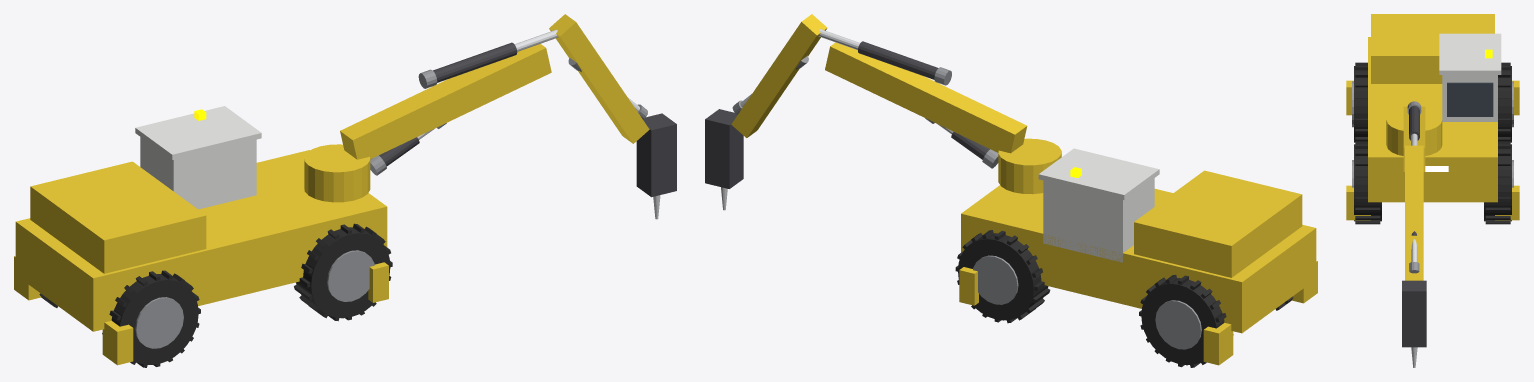
Rendered from EQ_SecondaryBreaker.glb.
3 views of the same model, side by side, from view 1: azimuth 30°, elevation 25°; view 2: azimuth 150°, elevation 25°; view 3: azimuth 270°, elevation 25° (orthographic). The views are drawn at different scales.
Visible parts, largest first — view 1: SB2_Carrier, SB2_Boom, SB2_Wheel_FR, SB2_Wheel_RR, SB2_Stick, SB2_Slew, SB2_Hammer, SB2_StickCyl, SB2_BoomCyl; view 2: SB2_Carrier, SB2_Boom, SB2_Wheel_FL, SB2_Wheel_RL, SB2_Stick, SB2_Hammer, SB2_Slew, SB2_StickCyl, SB2_BoomCyl; view 3: SB2_Carrier, SB2_Stick, SB2_Hammer, SB2_Wheel_FL, SB2_Wheel_FR, SB2_Slew, SB2_Wheel_RR, SB2_Wheel_RL, SB2_Boom, SB2_StickCyl, SB2_HammerCyl_Rod.
Boxes of the visible parts, box(x1,y1,x2,y2) form: SB2_Carrier: box(14, 106, 388, 365); SB2_Boom: box(340, 44, 551, 159); SB2_Wheel_FR: box(294, 223, 392, 321); SB2_Wheel_RR: box(102, 270, 200, 367); SB2_Stick: box(549, 14, 649, 143); SB2_Slew: box(304, 144, 370, 202); SB2_Hammer: box(636, 113, 676, 219); SB2_StickCyl: box(418, 42, 517, 88); SB2_BoomCyl: box(370, 137, 419, 175); SB2_Carrier: box(959, 148, 1317, 365); SB2_Boom: box(825, 42, 1027, 153); SB2_Wheel_FL: box(955, 230, 1050, 323); SB2_Wheel_RL: box(1139, 274, 1233, 367); SB2_Stick: box(731, 14, 827, 137); SB2_Hammer: box(705, 109, 743, 210); SB2_Slew: box(998, 138, 1061, 194); SB2_StickCyl: box(858, 41, 951, 85); SB2_BoomCyl: box(951, 132, 998, 168); SB2_Carrier: box(1346, 14, 1519, 220); SB2_Stick: box(1405, 145, 1423, 280); SB2_Hammer: box(1402, 280, 1426, 367); SB2_Wheel_FL: box(1484, 141, 1513, 224); SB2_Wheel_FR: box(1352, 141, 1381, 224); SB2_Slew: box(1386, 109, 1442, 155); SB2_Wheel_RR: box(1352, 62, 1367, 142); SB2_Wheel_RL: box(1498, 62, 1513, 142); SB2_Boom: box(1403, 106, 1425, 171); SB2_StickCyl: box(1407, 101, 1421, 140); SB2_HammerCyl_Rod: box(1409, 239, 1419, 273).
Bounding box in the file's own units: 9.45 × 3.32 × 2.8.
